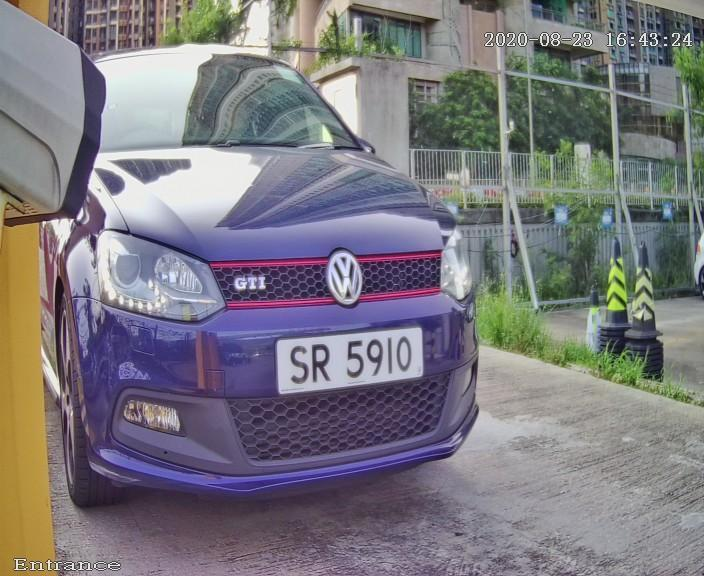Car: (26, 6, 519, 533)
License Plate: (247, 301, 440, 416)
